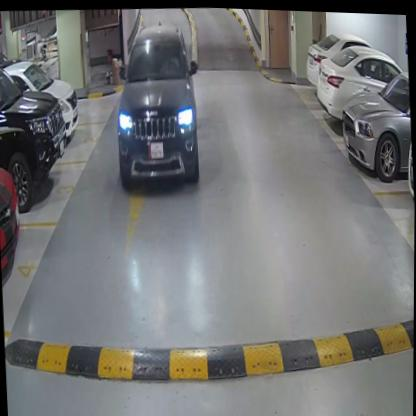np: (148, 139, 164, 160)
